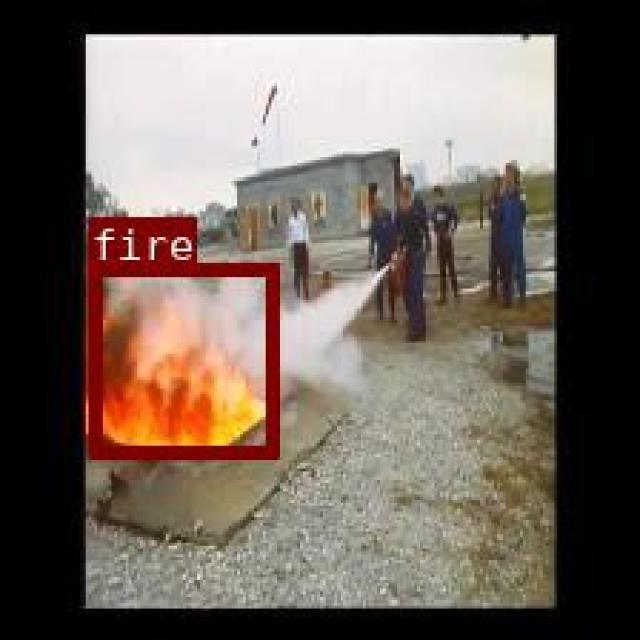fire: (87, 263, 275, 456)
